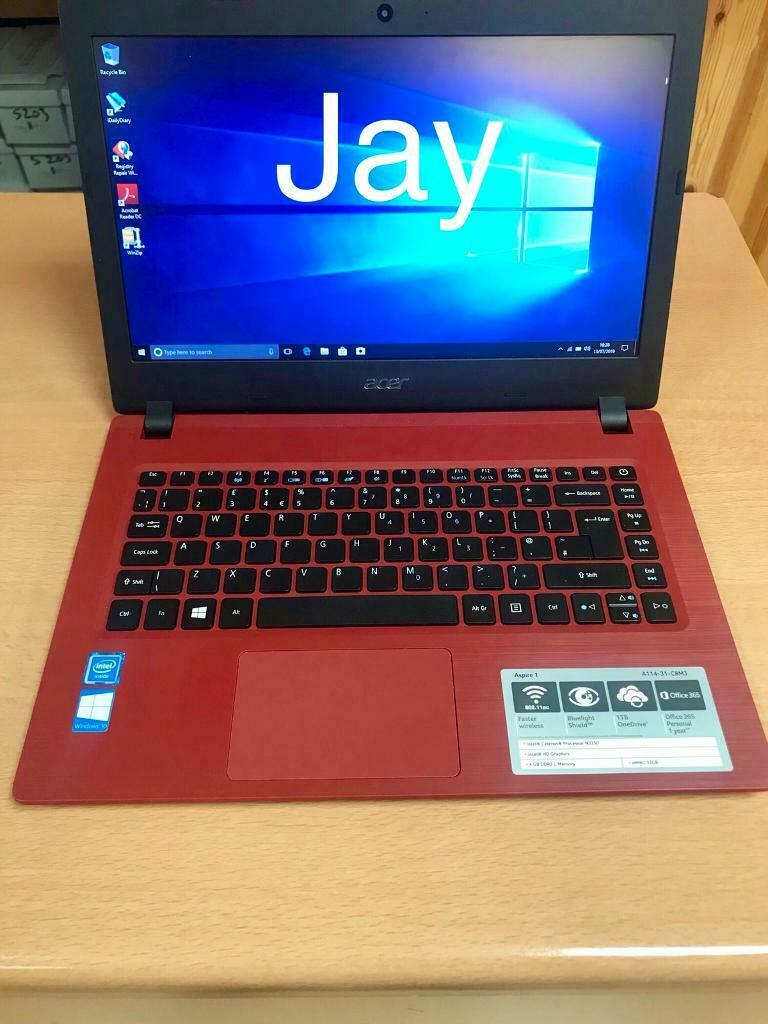Laptop: (3, 1, 768, 800)
